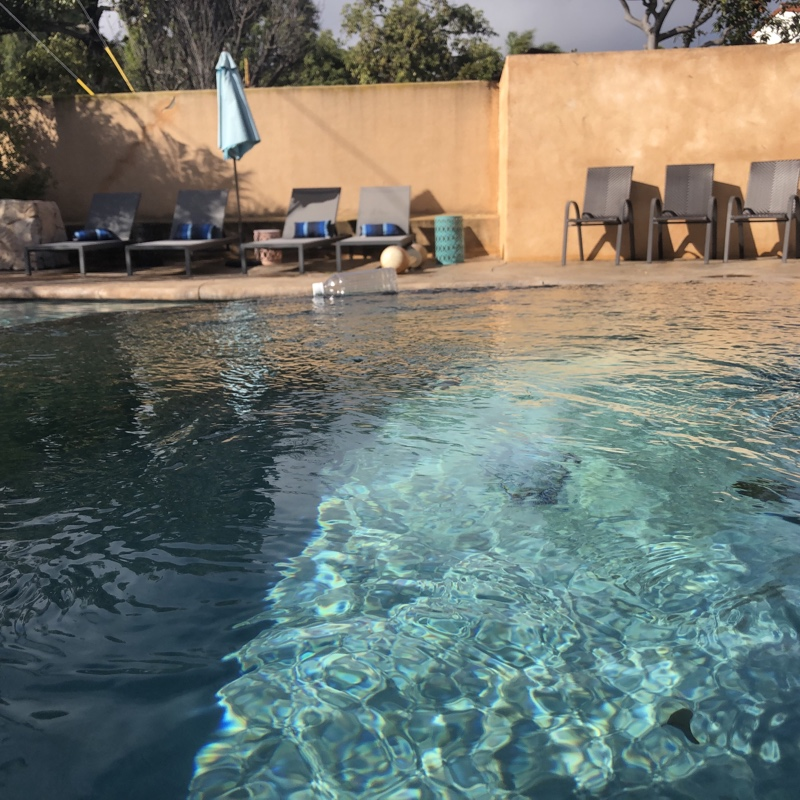Plastic Bottle: (310, 265, 400, 300)
